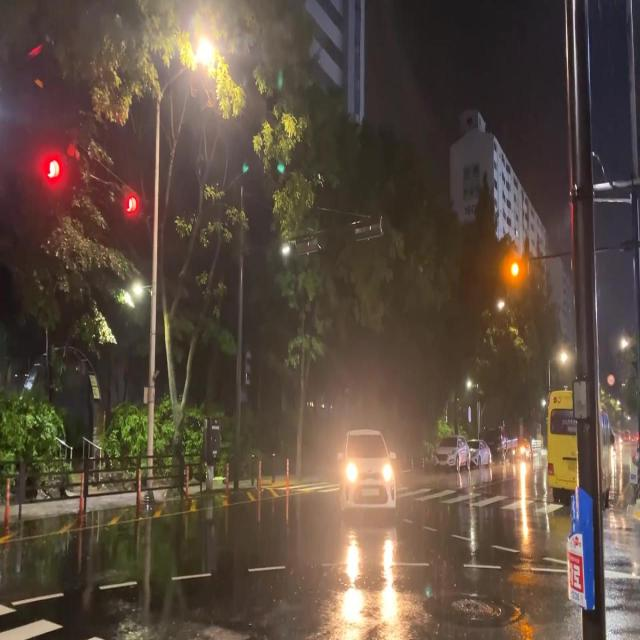Car: (334, 429, 399, 508), (436, 433, 469, 475)
